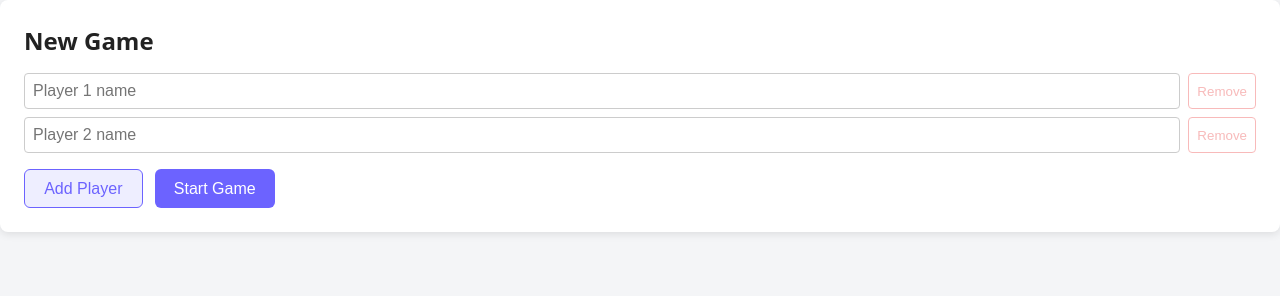
Test: NewGameForm › Remove button removes a row
Note: Add a third player first
Click the button "Add Player".
click(83, 189)  # box 24,169 -> 143,208
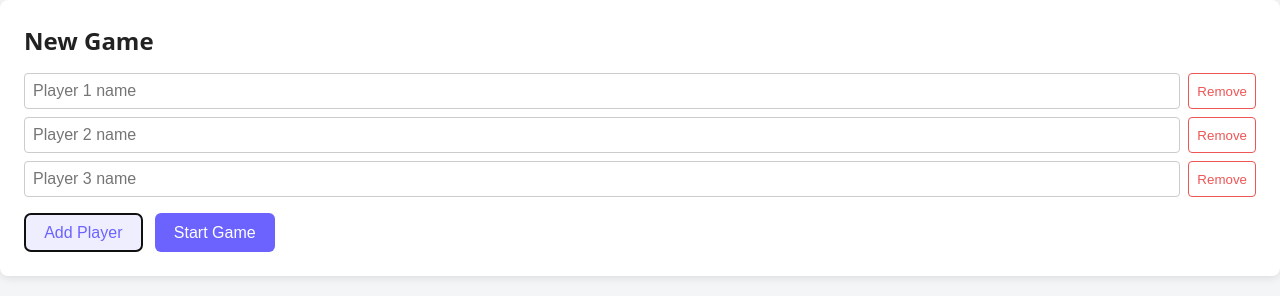
Result: the number of fields is 3 at 24,73 -> 1180,109; 24,117 -> 1180,153; 24,161 -> 1180,197
Note: Remove the first player
Click the button with aria-label "remove player".
click(1222, 91)  # box 1188,73 -> 1256,109
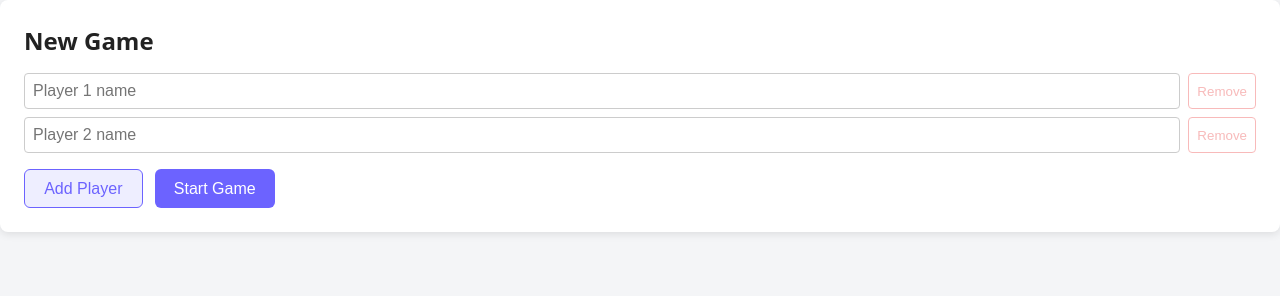
Result: the number of fields is 2 at 24,73 -> 1180,109; 24,117 -> 1180,153
